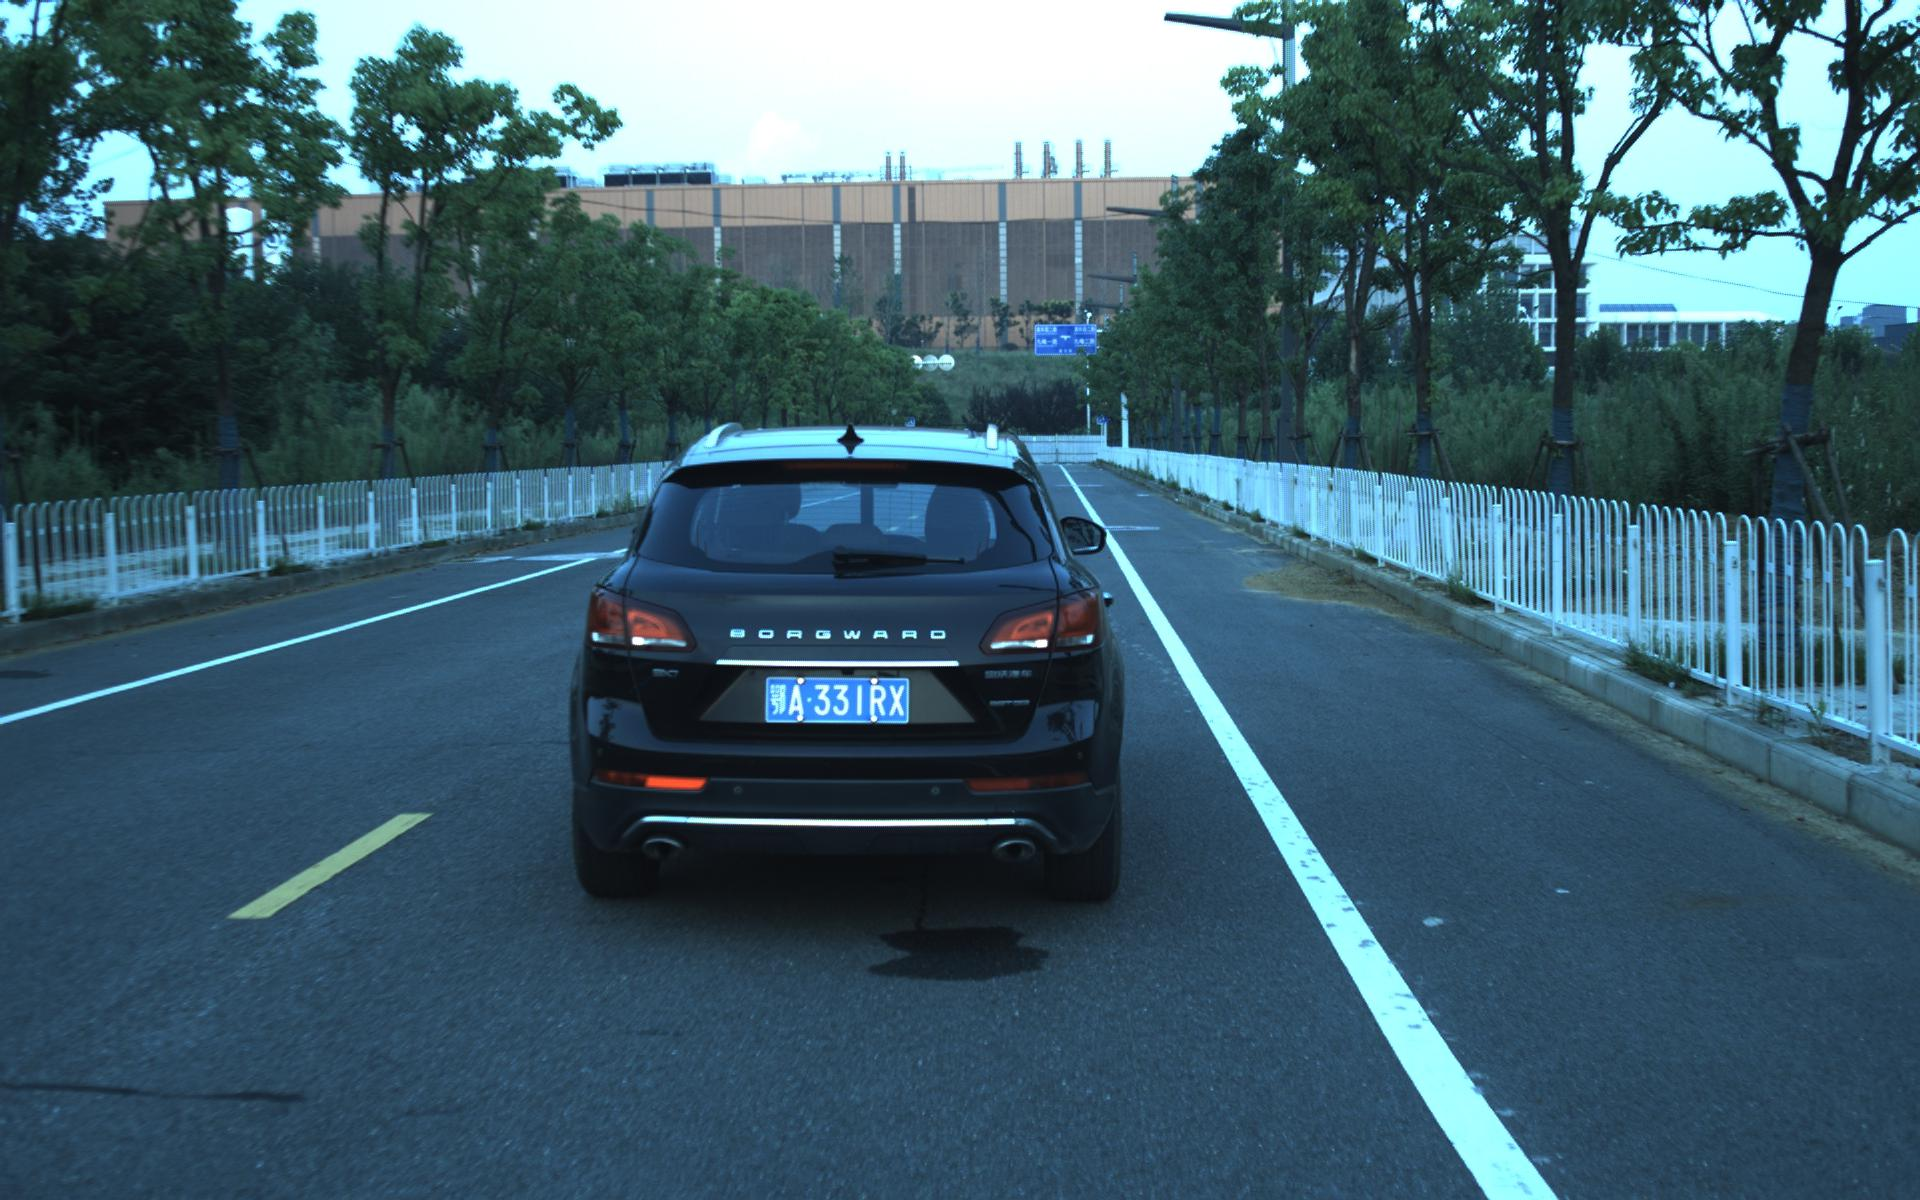Car: (554, 395, 1132, 886)
